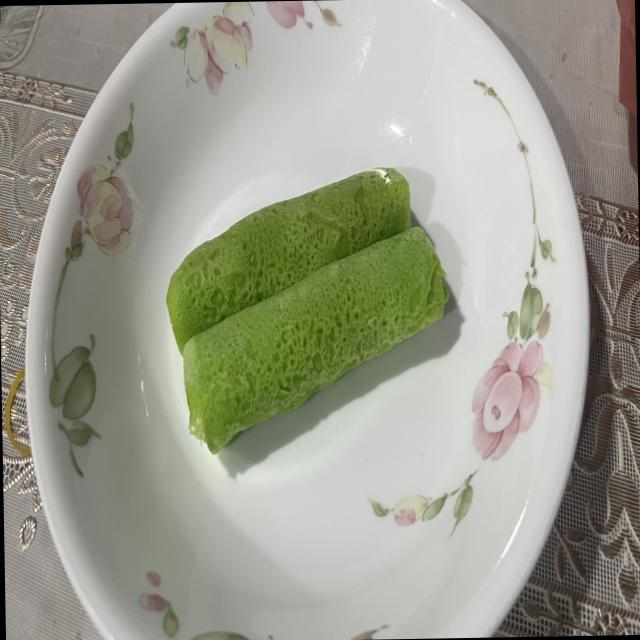Kuih-Ketayap: (183, 227, 446, 453), (166, 168, 410, 351)
